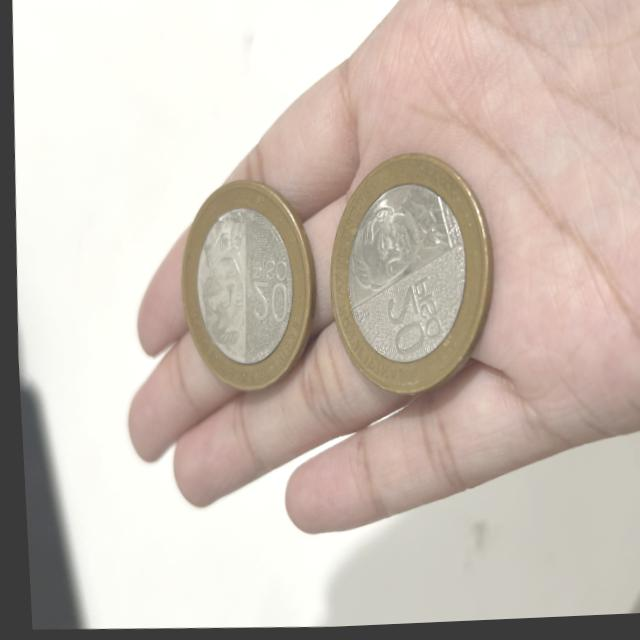20_New_Front: (371, 277, 445, 360), (239, 255, 287, 328)
